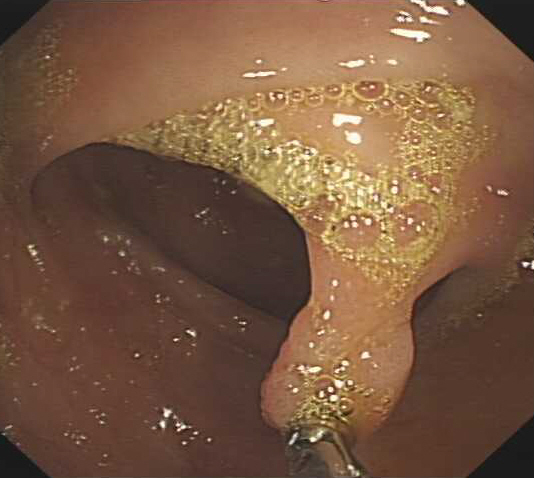adenoma: (256, 251, 421, 445)
